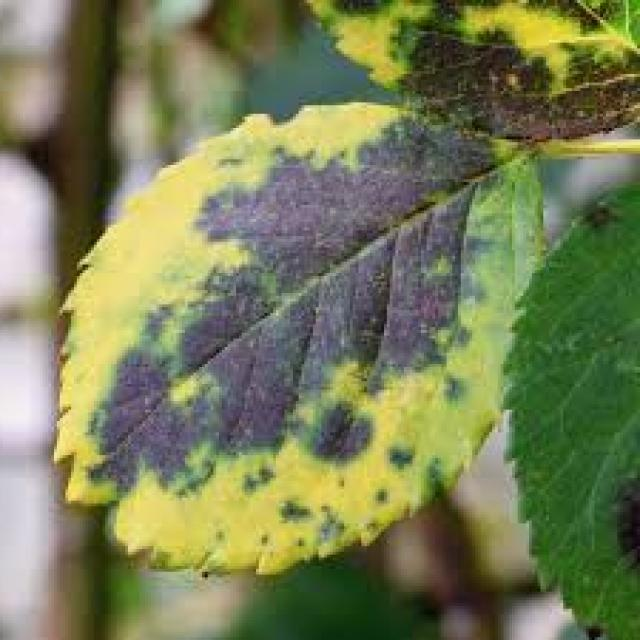black-spot: (53, 135, 496, 523)
